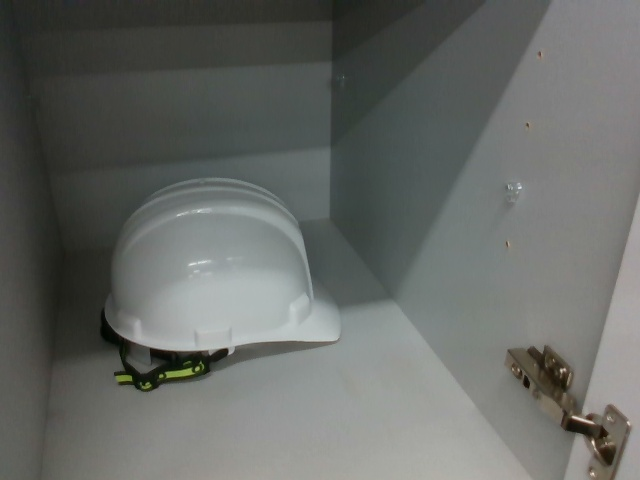helmet: (101, 171, 347, 392)
